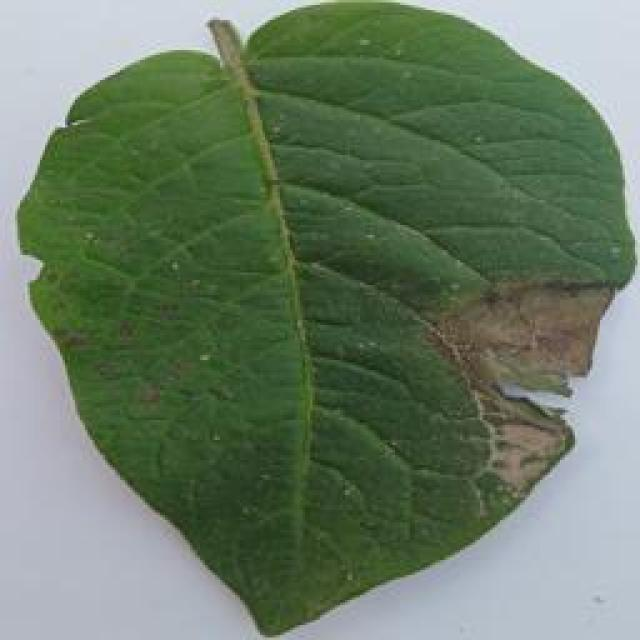Potato_Late_Blight: (17, 6, 624, 634)
